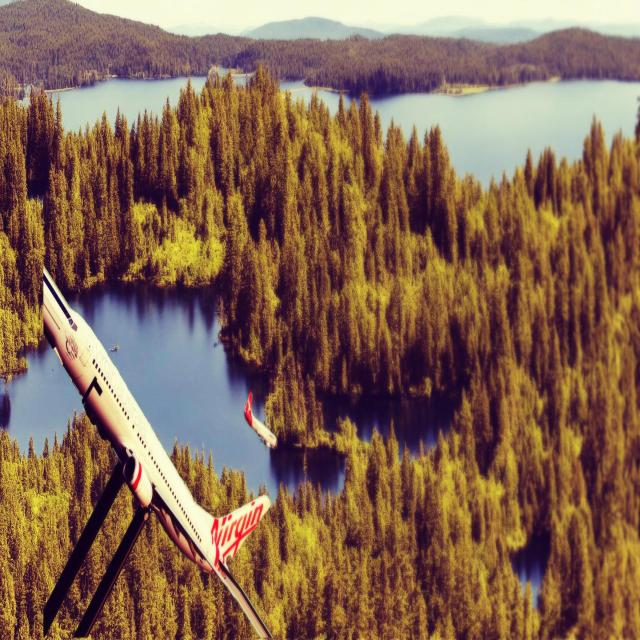airplane: (41, 262, 273, 639), (243, 391, 277, 449)
